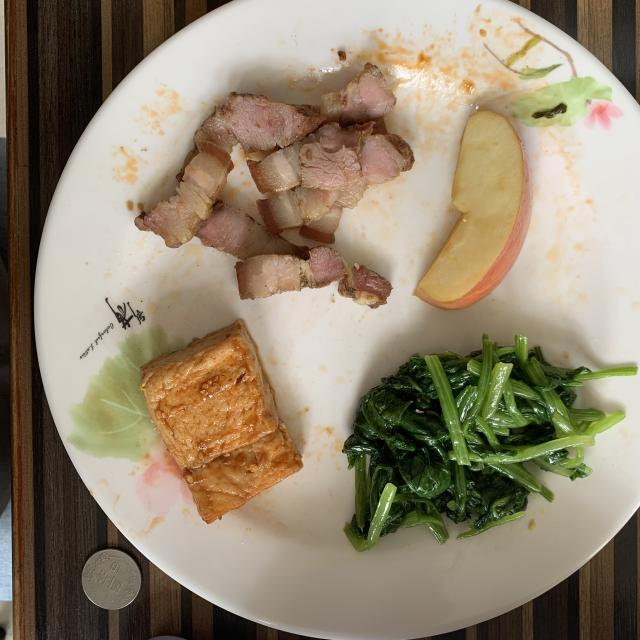apple -sliced-: (414, 111, 532, 309)
coin: (81, 549, 141, 610)
creamy tofu: (140, 320, 302, 524)
grilled pork: (135, 62, 414, 308)
mustard greens: (342, 336, 636, 545)
